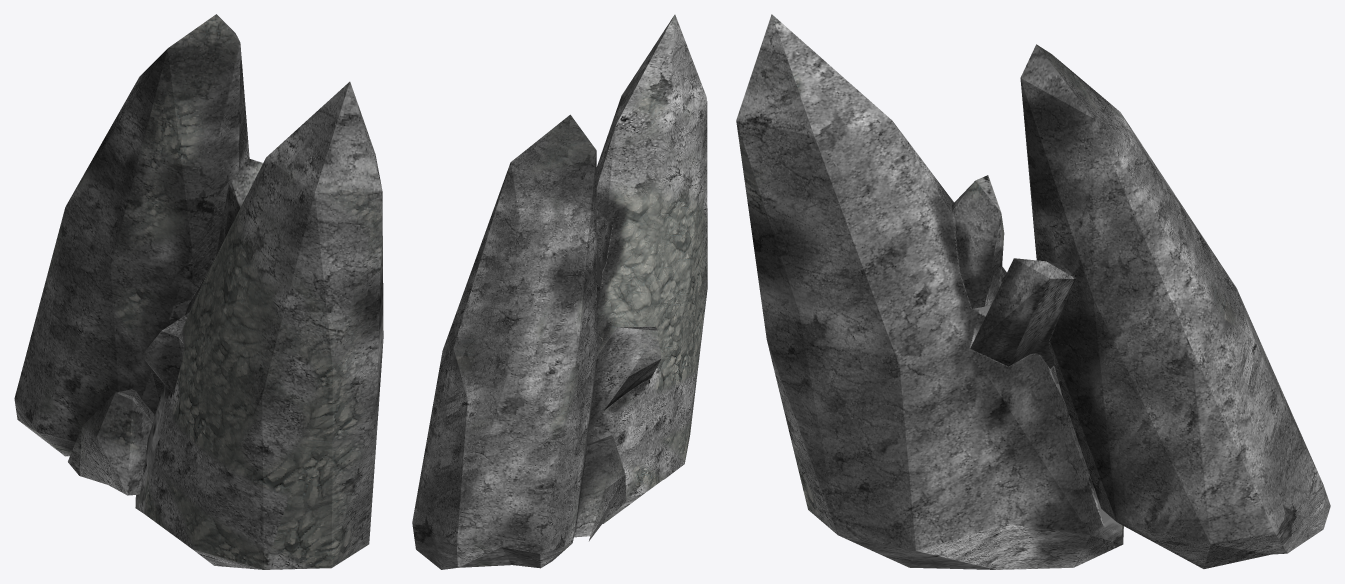
File: spikes.glb
The picture shows the model from 3 angles, left to right: view 1: azimuth 30°, elevation 25°; view 2: azimuth 150°, elevation 25°; view 3: azimuth 270°, elevation 25°; orthographic projection. The views are drawn at different scales.
Visible parts, largest first — view 1: Icosphere; view 2: Icosphere; view 3: Icosphere.
Part boxes in pixels (x1,y1,x2,y2): Icosphere: [14, 14, 383, 569]; Icosphere: [412, 14, 707, 569]; Icosphere: [736, 14, 1330, 569].
Size of the model in its own units: 2.03 by 5.47 by 5.64.
Materials: 1 (1 with a texture image).
